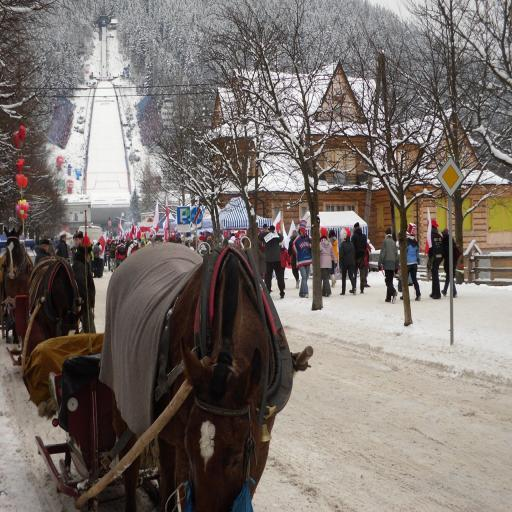horse: (108, 250, 278, 510), (28, 256, 85, 340), (0, 224, 36, 352)
